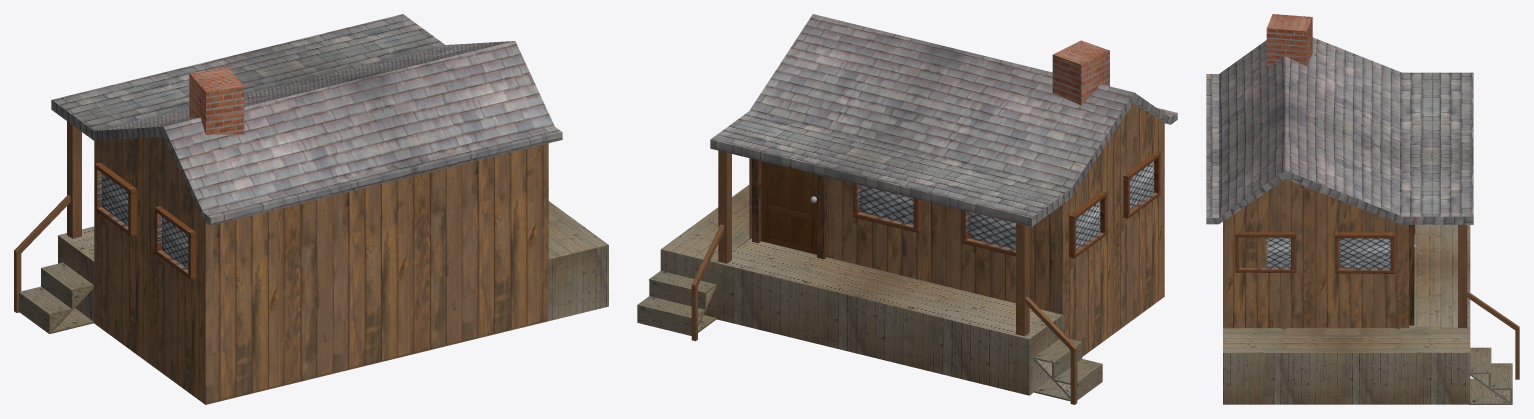
File: House_03_03_06.fbx
3 renders of one model, left to right at view 1: azimuth 30°, elevation 25°; view 2: azimuth 150°, elevation 25°; view 3: azimuth 270°, elevation 25°, orthographic. The views are drawn at different scales.
Parts seen in each view (by area): view 1: House_03:polySurface1, pCube63, pCube149, pCube138, pCube137, pCube65, pCube144, pCube143, pCube142, pCube141, pCube148; view 2: House_03:polySurface1, pCube63, pCube138 (×2), pCube137 (×2), pCube149, pCube65, pCube142 (×2), pCube66, pCube144 (×2), pCube143 (×2), pCube141, pCube148; view 3: House_03:polySurface1, pCube63, pCube136, pCube149, pCube135, pCube66, pCube145, pCube144, pCube143, pCube148, pCube146.
Part boxes in pixels (box(x1,y1,x2,y2)): House_03:polySurface1: box(51, 14, 562, 404); pCube63: box(58, 201, 608, 322); pCube149: box(189, 67, 244, 134); pCube138: box(95, 162, 136, 236); pCube137: box(155, 206, 196, 279); pCube65: box(67, 121, 81, 238); pCube144: box(41, 262, 93, 291); pCube143: box(19, 286, 71, 315); pCube142: box(19, 293, 51, 333); pCube141: box(41, 269, 74, 310); pCube148: box(14, 194, 70, 254); House_03:polySurface1: box(710, 14, 1177, 356); pCube63: box(660, 185, 1062, 395); pCube138 (×2): box(853, 183, 1106, 258); pCube137 (×2): box(961, 151, 1160, 257); pCube149: box(1052, 40, 1109, 105); pCube65: box(1016, 223, 1029, 336); pCube142 (×2): box(637, 305, 1102, 400); pCube66: box(718, 150, 731, 263); pCube144 (×2): box(649, 271, 1082, 363); pCube143 (×2): box(637, 296, 1102, 384); pCube141: box(649, 280, 706, 310); pCube148: box(1025, 296, 1076, 351); House_03:polySurface1: box(1206, 37, 1473, 328); pCube63: box(1223, 225, 1470, 404); pCube136: box(1335, 232, 1395, 273); pCube149: box(1266, 14, 1312, 67); pCube135: box(1235, 232, 1295, 272); pCube66: box(1458, 225, 1467, 327); pCube145: box(1469, 378, 1510, 404); pCube144: box(1469, 347, 1491, 373); pCube143: box(1491, 363, 1512, 389); pCube148: box(1467, 291, 1519, 331); pCube146: box(1470, 374, 1510, 403).
Size of the model in its own units: 100 by 60.44 by 71.88.
